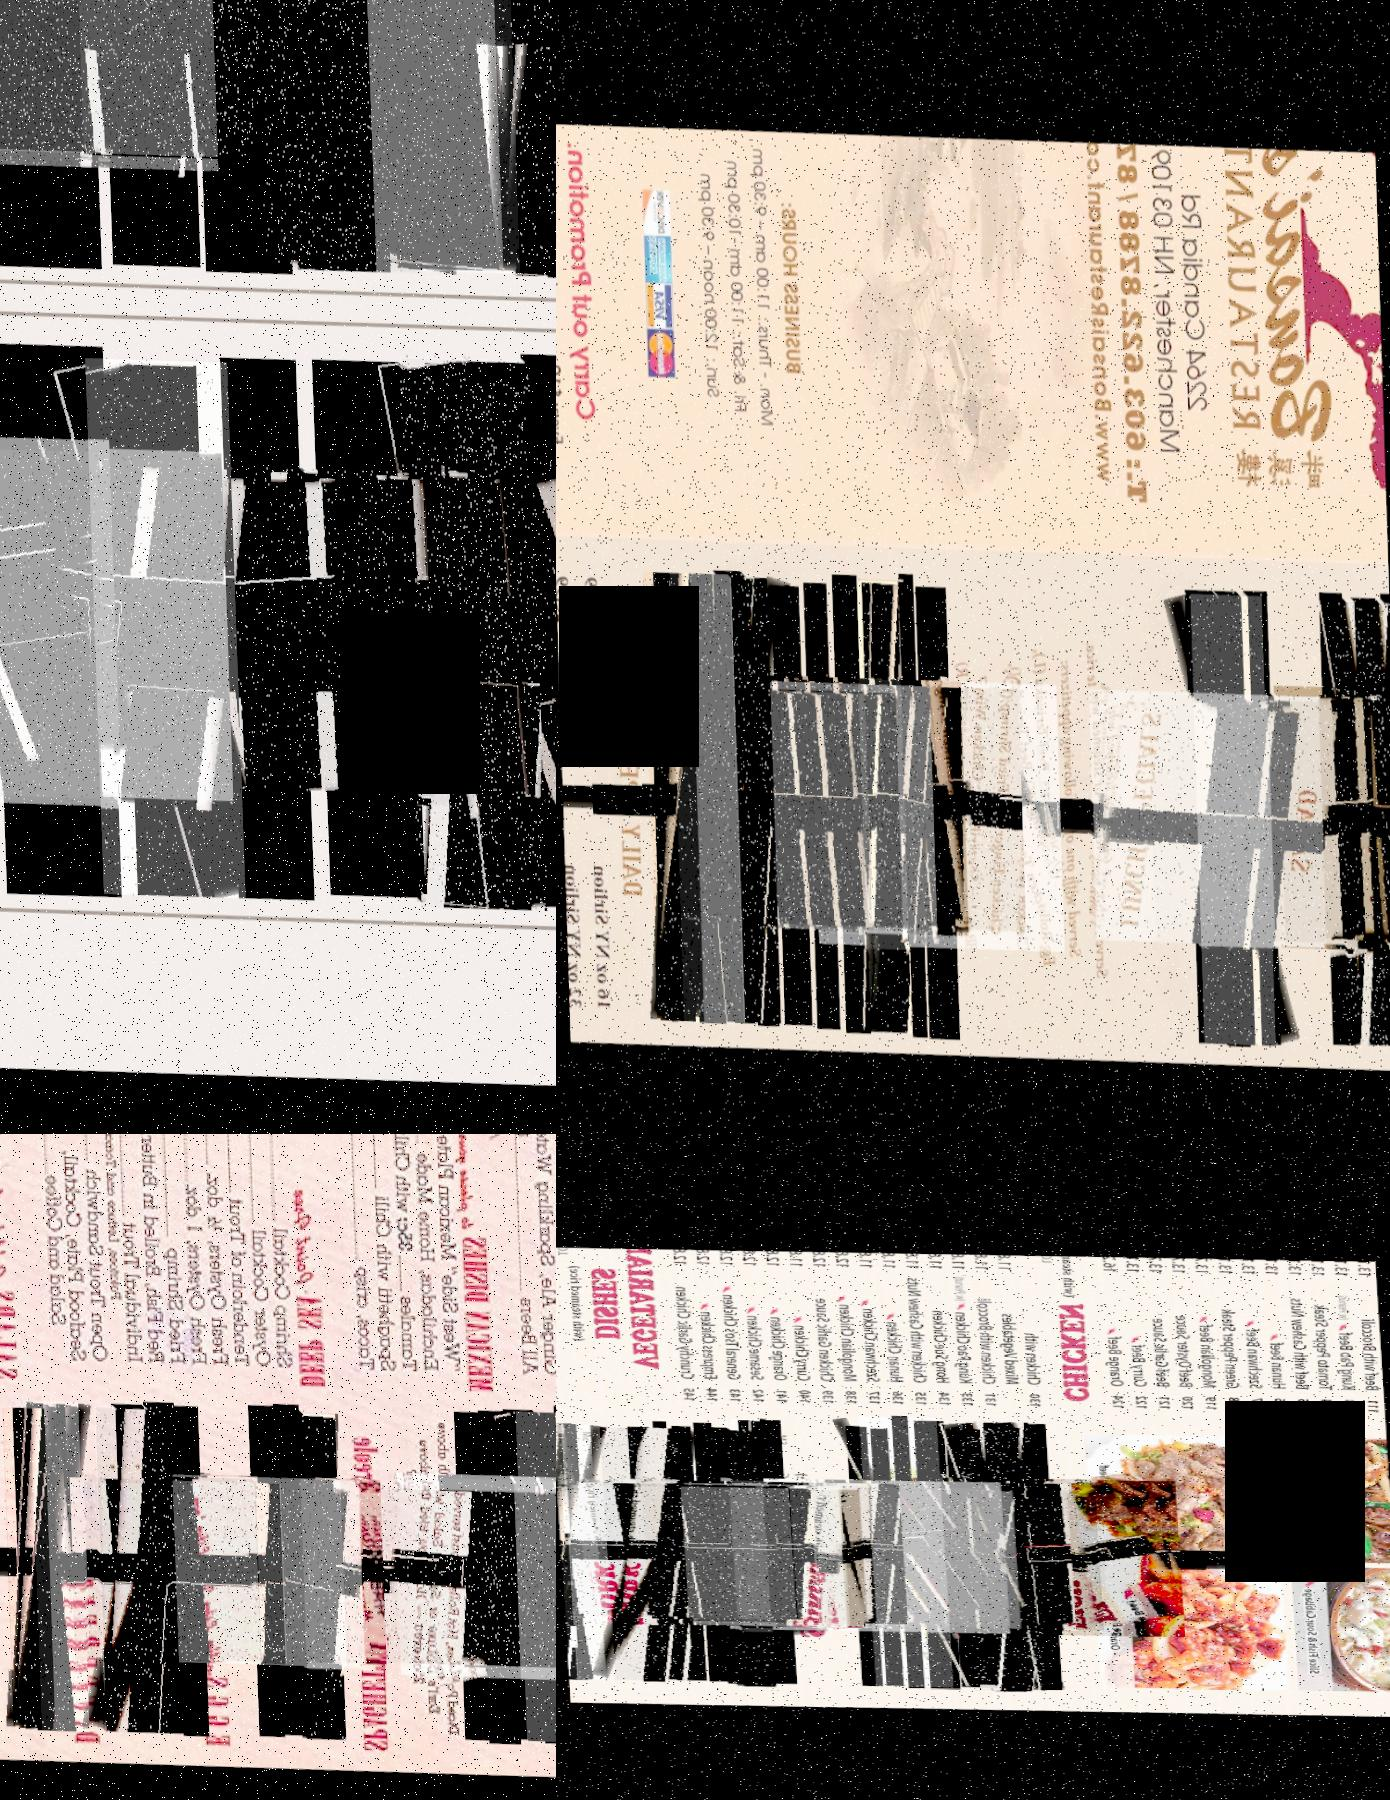Menu-Items: (102, 448, 431, 796), (200, 448, 527, 793), (83, 345, 244, 896), (0, 428, 231, 804), (396, 342, 545, 904), (809, 660, 1063, 952), (1085, 669, 1323, 945), (733, 663, 968, 936), (388, 431, 556, 810), (1143, 673, 1377, 942), (704, 669, 936, 936), (800, 670, 1025, 931), (680, 673, 902, 930), (650, 672, 872, 927), (72, 0, 404, 164), (888, 1469, 1183, 1638), (0, 0, 311, 161), (245, 0, 421, 269), (720, 1472, 1006, 1635), (0, 419, 120, 809), (794, 1472, 1073, 1632), (356, 0, 518, 269), (1224, 677, 1390, 933), (688, 565, 780, 1022), (572, 1473, 842, 1628), (640, 1474, 905, 1626), (599, 1479, 864, 1631), (1186, 578, 1273, 1038), (835, 1479, 1099, 1631), (752, 1479, 1016, 1629), (168, 1464, 361, 1667), (0, 0, 218, 177), (194, 1463, 384, 1663), (67, 1464, 257, 1663), (561, 1480, 815, 1625), (96, 1469, 282, 1664), (393, 1458, 556, 1674), (556, 1477, 793, 1622), (380, 1470, 556, 1663), (669, 568, 740, 1023), (1272, 669, 1390, 942), (91, 1397, 172, 1730), (642, 568, 702, 1022), (423, 1463, 556, 1664), (1332, 582, 1390, 1034), (854, 569, 911, 1028), (857, 1412, 952, 1686), (599, 1425, 692, 1682), (956, 1416, 1042, 1689), (25, 1393, 89, 1730), (483, 0, 556, 272), (575, 556, 616, 1013), (0, 1403, 53, 1727), (293, 1401, 345, 1733), (472, 1466, 556, 1661), (511, 1399, 556, 1733), (28, 1134, 91, 1366), (724, 1415, 774, 1686), (556, 1422, 603, 1679), (556, 565, 583, 1013), (99, 1134, 146, 1365), (502, 1473, 556, 1658), (340, 1134, 378, 1371), (991, 1251, 1047, 1410), (384, 1134, 421, 1374), (410, 1134, 445, 1371), (507, 1134, 542, 1369), (74, 1134, 110, 1366), (431, 1134, 464, 1371), (196, 1134, 231, 1361), (263, 1134, 296, 1369), (219, 1134, 253, 1365), (366, 1134, 399, 1371), (526, 1134, 556, 1371), (177, 1134, 207, 1371), (137, 1134, 168, 1361), (156, 1134, 185, 1366), (239, 1134, 269, 1364), (660, 1248, 701, 1403), (920, 1251, 958, 1410), (1164, 1253, 1202, 1412), (713, 1248, 750, 1406), (829, 1250, 867, 1406), (1095, 1253, 1133, 1407), (1280, 1254, 1317, 1412), (853, 1250, 889, 1406), (759, 1250, 794, 1404), (1352, 1255, 1386, 1415), (1146, 1253, 1180, 1410), (1215, 1253, 1248, 1410), (1237, 1254, 1270, 1410), (1327, 1254, 1361, 1410), (876, 1251, 910, 1406), (971, 1251, 1003, 1410), (807, 1250, 840, 1407), (786, 1250, 818, 1406), (1260, 1254, 1292, 1410), (1193, 1253, 1224, 1412), (898, 1251, 929, 1406), (1308, 1255, 1337, 1412), (694, 1248, 723, 1403), (1124, 1253, 1153, 1406), (739, 1250, 768, 1401), (946, 1251, 972, 1404), (549, 1476, 556, 1666), (556, 1247, 564, 1403)
